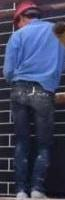boots: (29, 189, 46, 198), (14, 191, 27, 200)
hard-hat: (0, 48, 12, 64)
